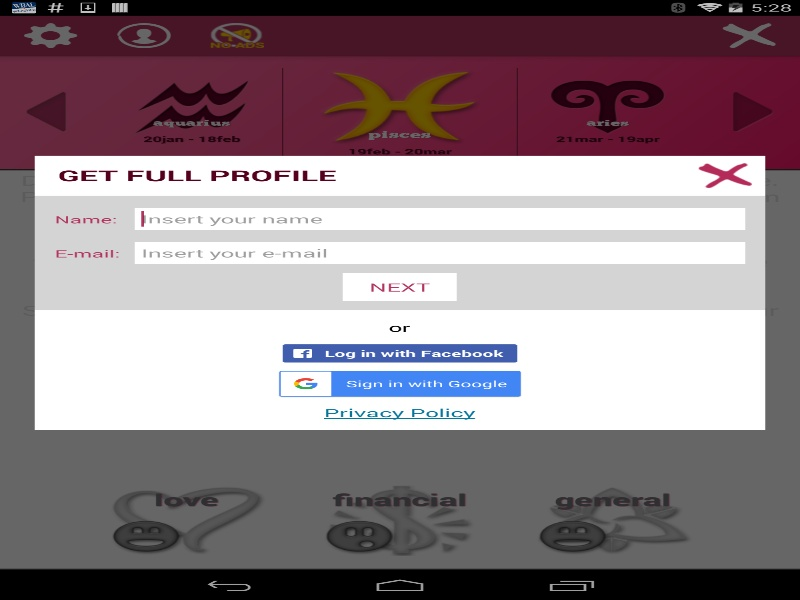Button: (274, 368, 525, 398), (282, 344, 517, 362), (342, 273, 456, 300), (698, 163, 752, 188)
Input: (134, 208, 745, 229), (134, 242, 745, 263)
